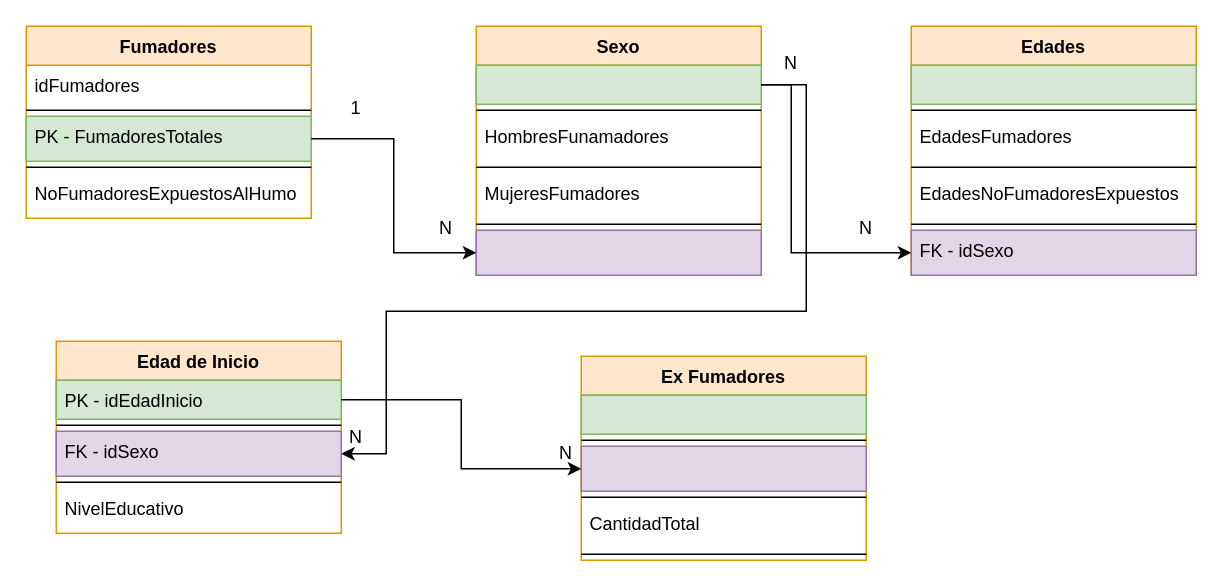
The diagram is 1223 pixels wide and 587 high, and some of its shapes have lost their labels. Each missing label, with the centre of its shape:
"FK - FumadoresTotales" goes at (x=618, y=252).
"FK - idEdadInicio" goes at (x=723, y=468).
"PK - idEdades" goes at (x=1053, y=84).
"PK - idExFumadores" goes at (x=723, y=414).
"PK - idSexo" goes at (x=618, y=84).
